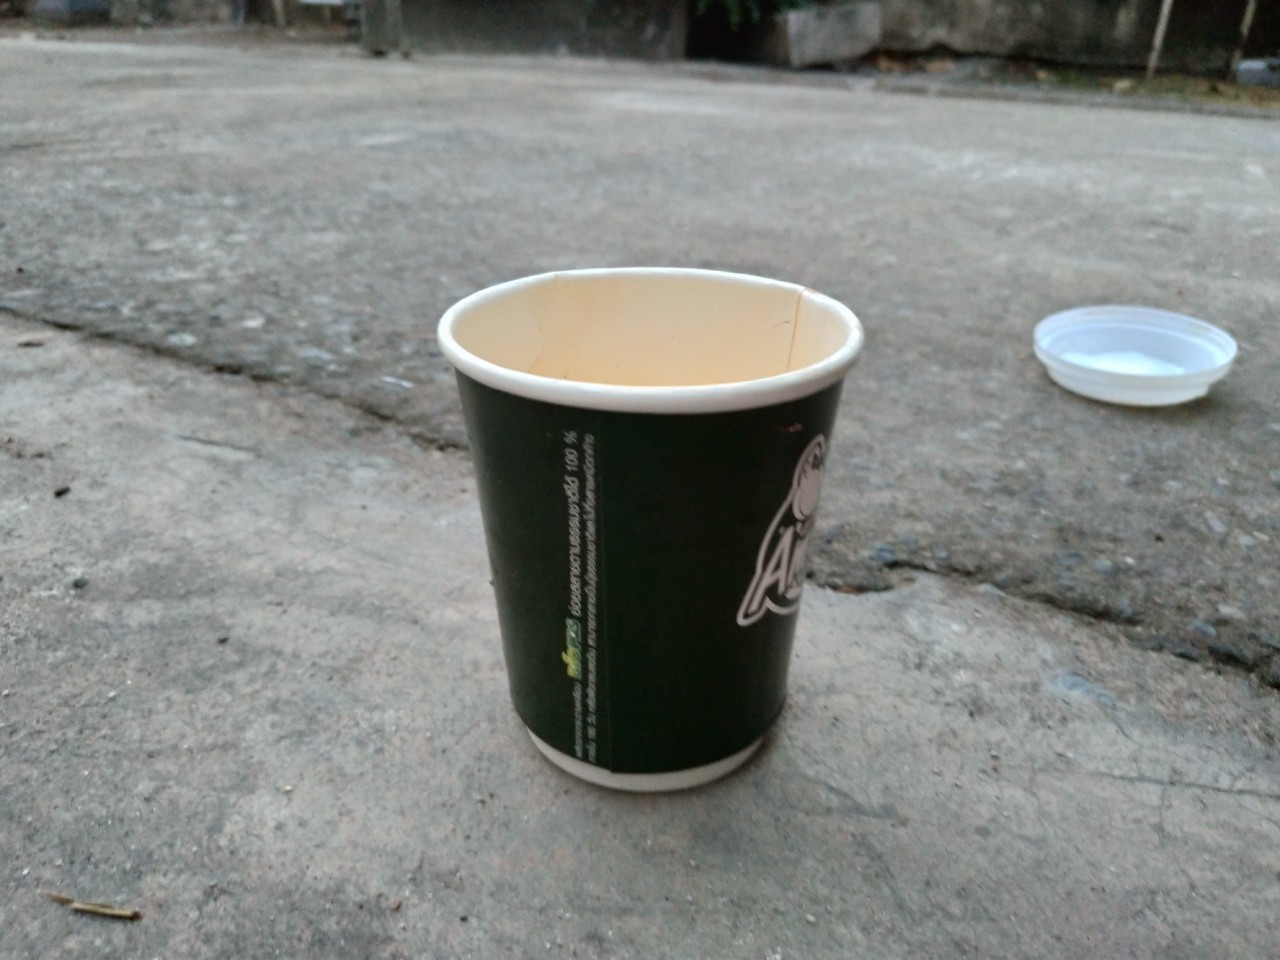PaperCup: (433, 265, 862, 797)
